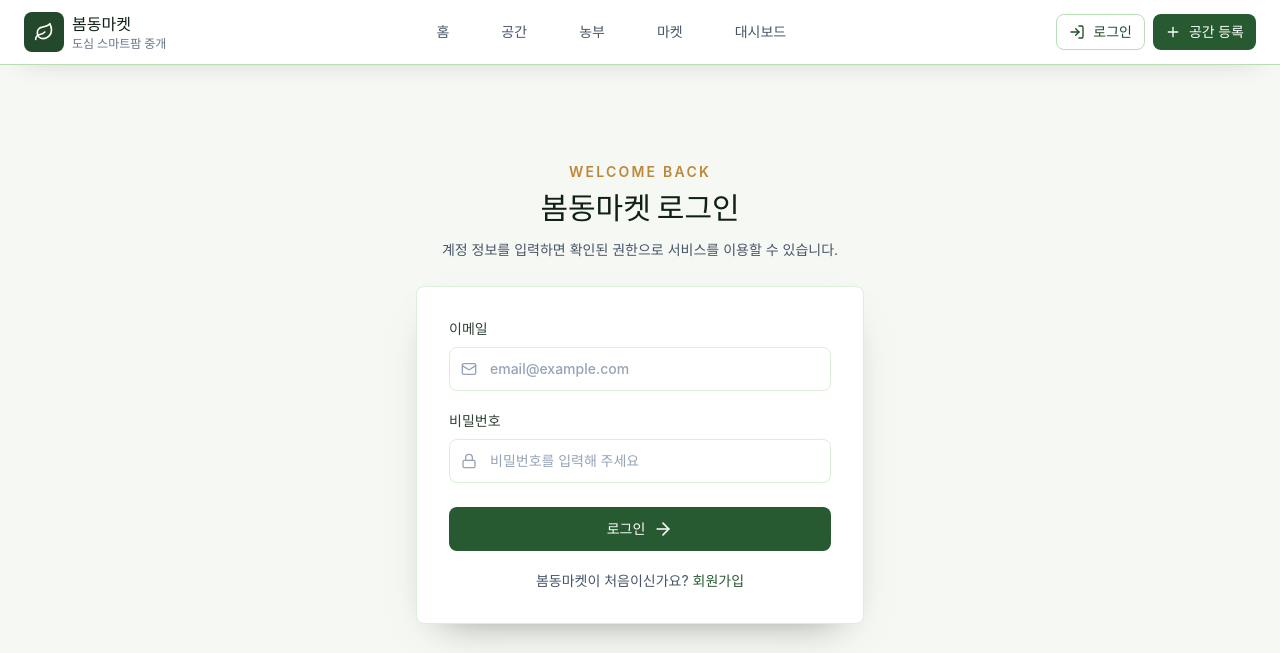
인증 후 원래 위치 복귀 › 보호된 공간 등록 페이지에서 로그인 후 원래 페이지로 돌아온다
Expected: the heading "봄동마켓 로그인" is shown, [540, 190, 740, 226]
Type "owner@example.com" into the field labelled "이메일" at (640, 369), box [449, 347, 831, 391]
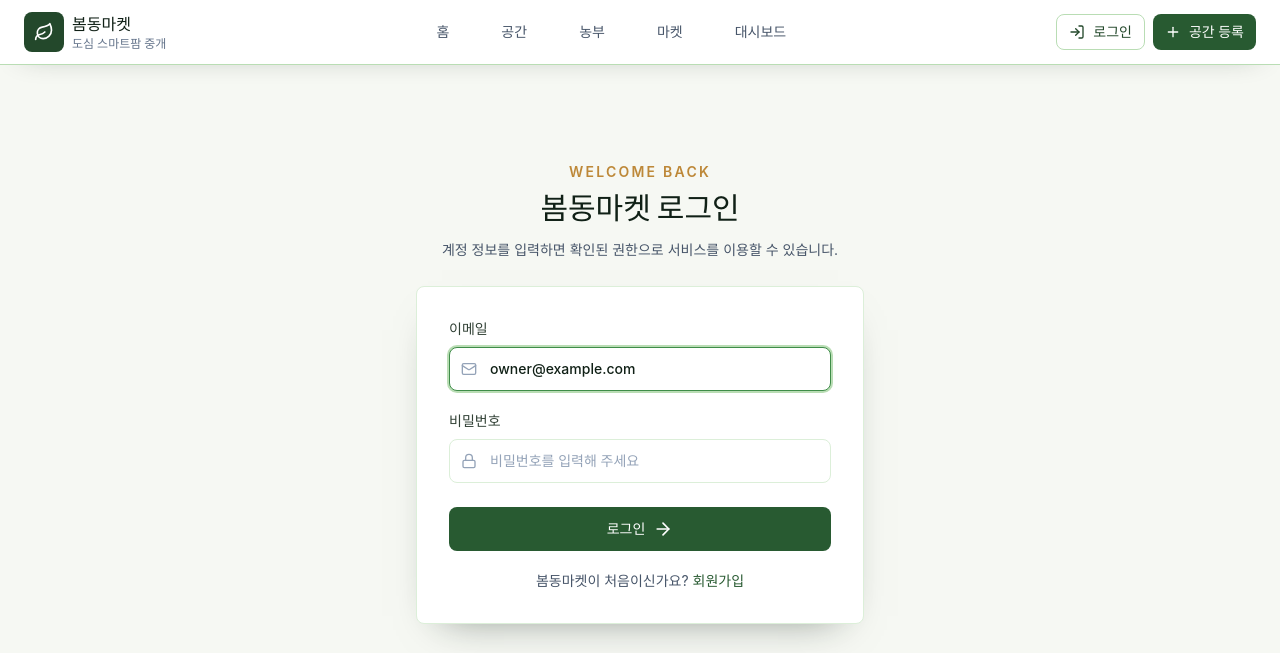
Type "12345678" into the password field labelled "비밀번호" at (640, 461), box [449, 439, 831, 483]
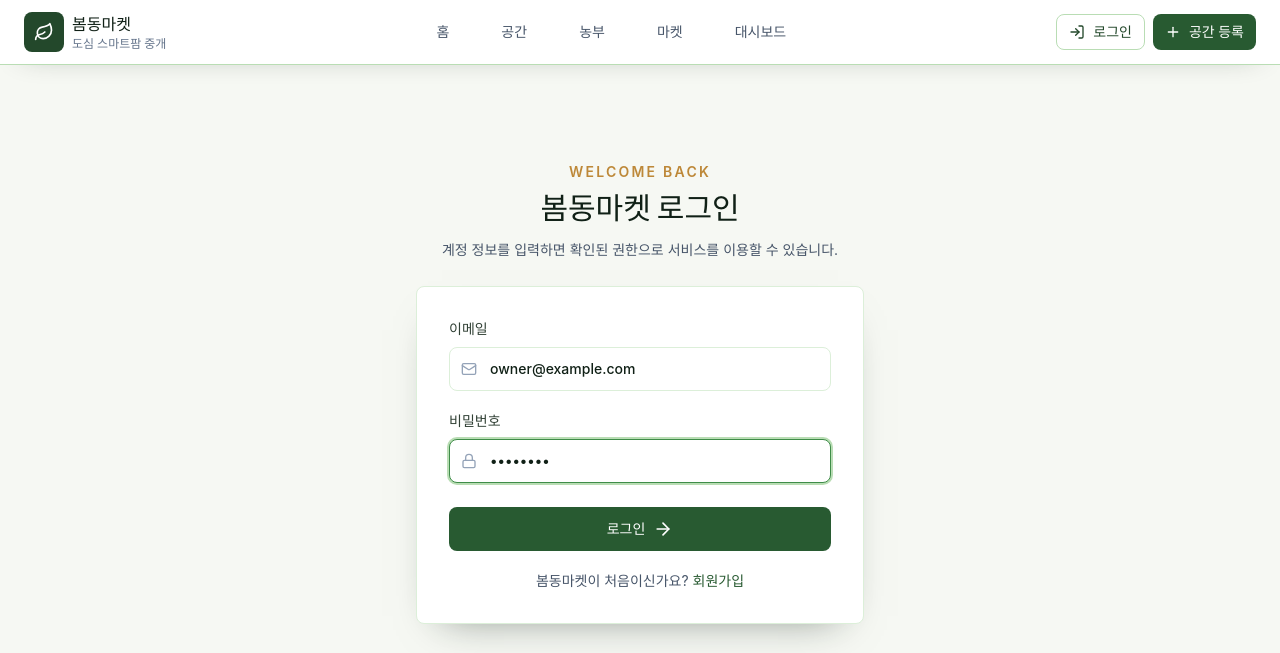
Click the button "로그인" at (640, 529), box [449, 507, 831, 551]
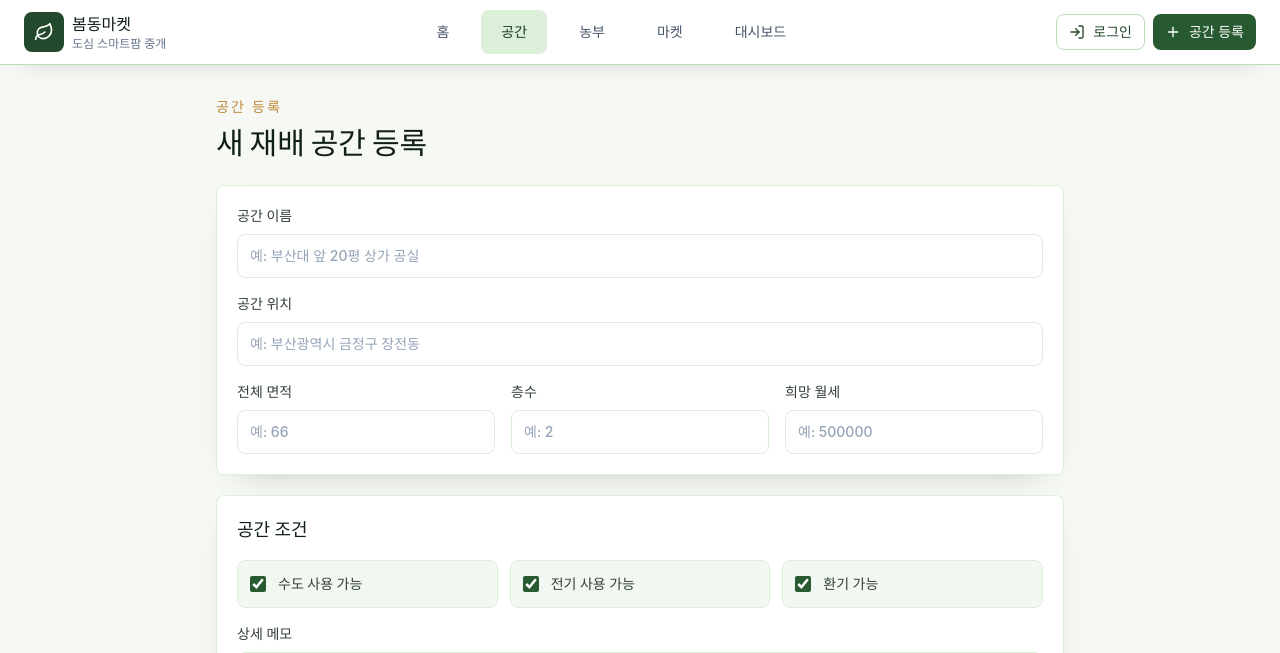
Expected: the heading "새 재배 공간 등록" is shown, [216, 125, 427, 161]
